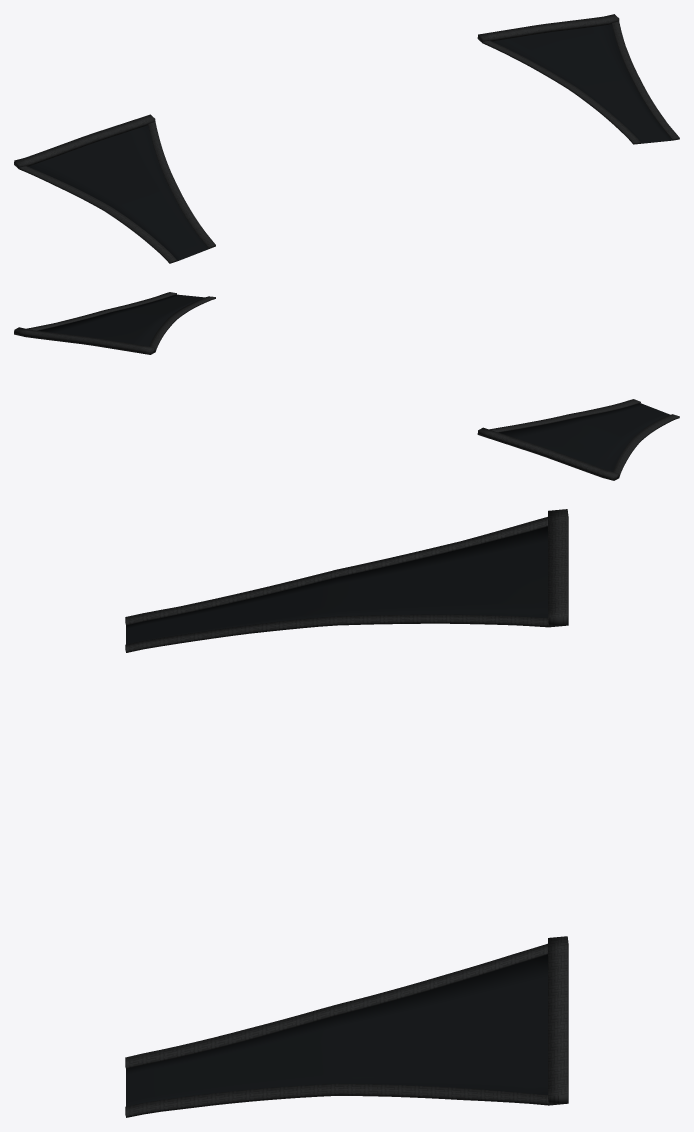
File: DT72_naca_ducts.glb
3 renders of one model, top to bottom at view 1: azimuth 30°, elevation 25°; view 2: azimuth 150°, elevation 25°; view 3: azimuth 270°, elevation 25°, orthographic. The views are drawn at different scales.
Visible parts, largest first — view 1: MOD_ND_DT72_recess_R, MOD_ND_DT72_recess_L, MOD_ND_DT72_lip_R, MOD_ND_DT72_surround_Ro, MOD_ND_DT72_lip_L, MOD_ND_DT72_surround_Li, MOD_ND_DT72_surround_Ri, MOD_ND_DT72_surround_Lo; view 2: MOD_ND_DT72_recess_R, MOD_ND_DT72_recess_L, MOD_ND_DT72_lip_R, MOD_ND_DT72_lip_L, MOD_ND_DT72_surround_Ri, MOD_ND_DT72_surround_Ro, MOD_ND_DT72_surround_Lo, MOD_ND_DT72_surround_Li; view 3: MOD_ND_DT72_recess_L, MOD_ND_DT72_recess_R, MOD_ND_DT72_surround_Lo, MOD_ND_DT72_surround_Li, MOD_ND_DT72_surround_Ri, MOD_ND_DT72_surround_Ro, MOD_ND_DT72_lip_L, MOD_ND_DT72_lip_R.
Boxes of the visible parts, x1,y1,x2,y2 form: MOD_ND_DT72_recess_R: [28, 125, 208, 261]; MOD_ND_DT72_recess_L: [492, 24, 672, 143]; MOD_ND_DT72_lip_R: [14, 114, 155, 168]; MOD_ND_DT72_surround_Ro: [19, 166, 176, 263]; MOD_ND_DT72_lip_L: [477, 14, 619, 42]; MOD_ND_DT72_surround_Li: [482, 40, 640, 144]; MOD_ND_DT72_surround_Ri: [148, 121, 215, 248]; MOD_ND_DT72_surround_Lo: [612, 21, 679, 140]; MOD_ND_DT72_recess_R: [499, 403, 670, 471]; MOD_ND_DT72_recess_L: [38, 294, 204, 346]; MOD_ND_DT72_lip_R: [477, 427, 619, 480]; MOD_ND_DT72_lip_L: [14, 327, 155, 354]; MOD_ND_DT72_surround_Ri: [489, 399, 640, 432]; MOD_ND_DT72_surround_Ro: [613, 414, 679, 476]; MOD_ND_DT72_surround_Lo: [26, 292, 176, 330]; MOD_ND_DT72_surround_Li: [149, 296, 215, 351]; MOD_ND_DT72_recess_L: [126, 954, 547, 1106]; MOD_ND_DT72_recess_R: [126, 526, 547, 644]; MOD_ND_DT72_surround_Lo: [125, 1083, 548, 1117]; MOD_ND_DT72_surround_Li: [125, 943, 547, 1068]; MOD_ND_DT72_surround_Ri: [125, 614, 548, 652]; MOD_ND_DT72_surround_Ro: [125, 517, 547, 625]; MOD_ND_DT72_lip_L: [548, 936, 568, 1105]; MOD_ND_DT72_lip_R: [548, 509, 568, 627].
Bounding box in the file's own units: 0.984 × 0.0727 × 0.3147.
2 materials, 1 textured.
